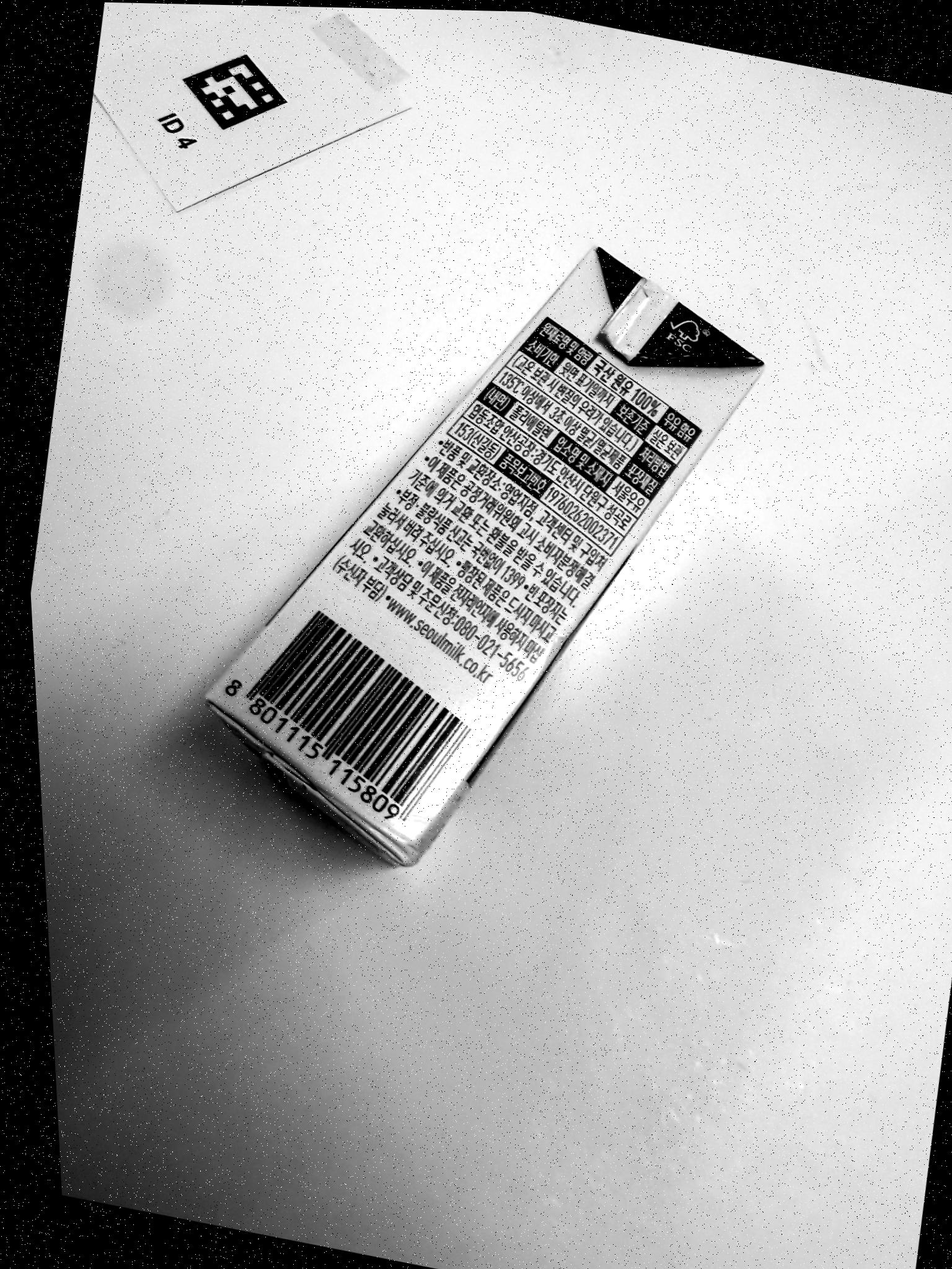milk_blue: (207, 248, 763, 865)
